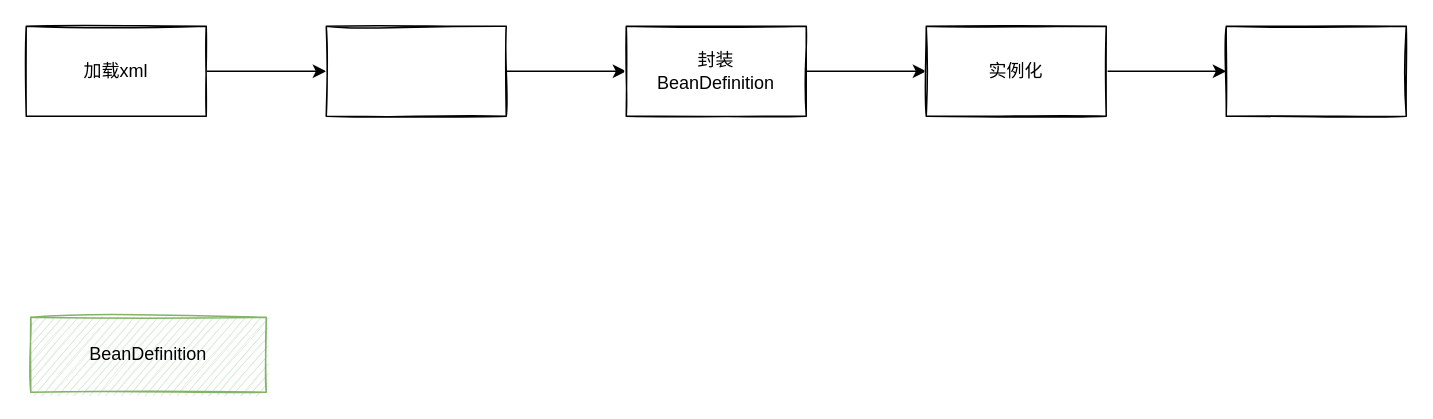
Some shapes in this 1433 by 419 pixel diagram are drawn without their labels. Here are the shapes that lost their labels. From the top down, the centre of each, then its label:
At (x=415, y=70): "解析xml".
At (x=1315, y=70): "使用Bean".
